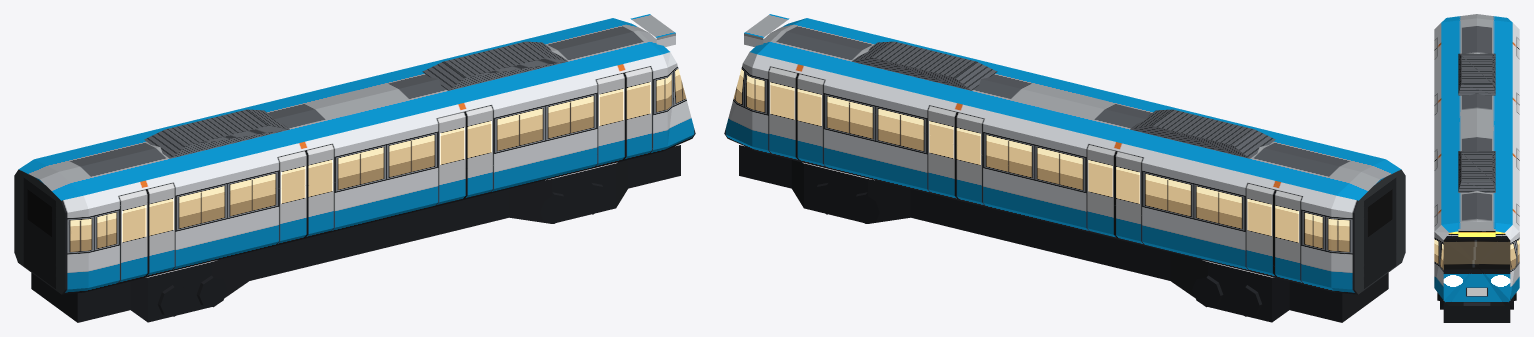
File: paris_idfm_pneu__neutral__cab.glb
3 views of the same model, side by side, from view 1: azimuth 30°, elevation 25°; view 2: azimuth 150°, elevation 25°; view 3: azimuth 270°, elevation 25° (orthographic). The views are drawn at different scales.
Visible parts, largest first — view 1: paris_idfm_pneu__neutral__cab; view 2: paris_idfm_pneu__neutral__cab; view 3: paris_idfm_pneu__neutral__cab.
Boxes of the visible parts, x1,y1,x2,y2 form: paris_idfm_pneu__neutral__cab: (14, 14, 695, 322); paris_idfm_pneu__neutral__cab: (724, 14, 1405, 322); paris_idfm_pneu__neutral__cab: (1434, 14, 1519, 322).
Bounding box in the file's own units: 15 × 3.47 × 2.44.
Materials: 1 (1 with a texture image).
